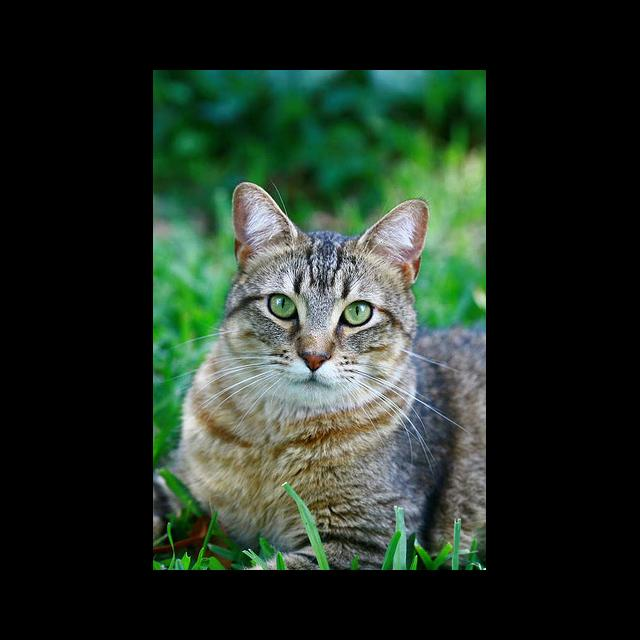animals: (240, 182, 427, 369)
